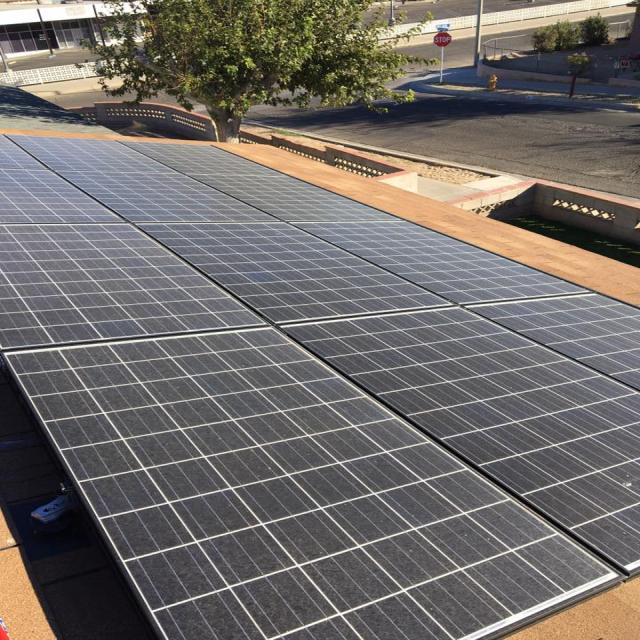dust-solar-panel: (0, 134, 640, 639)
